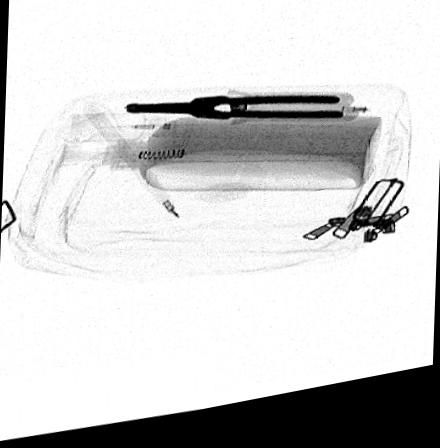Pliers: (125, 102, 343, 130)
